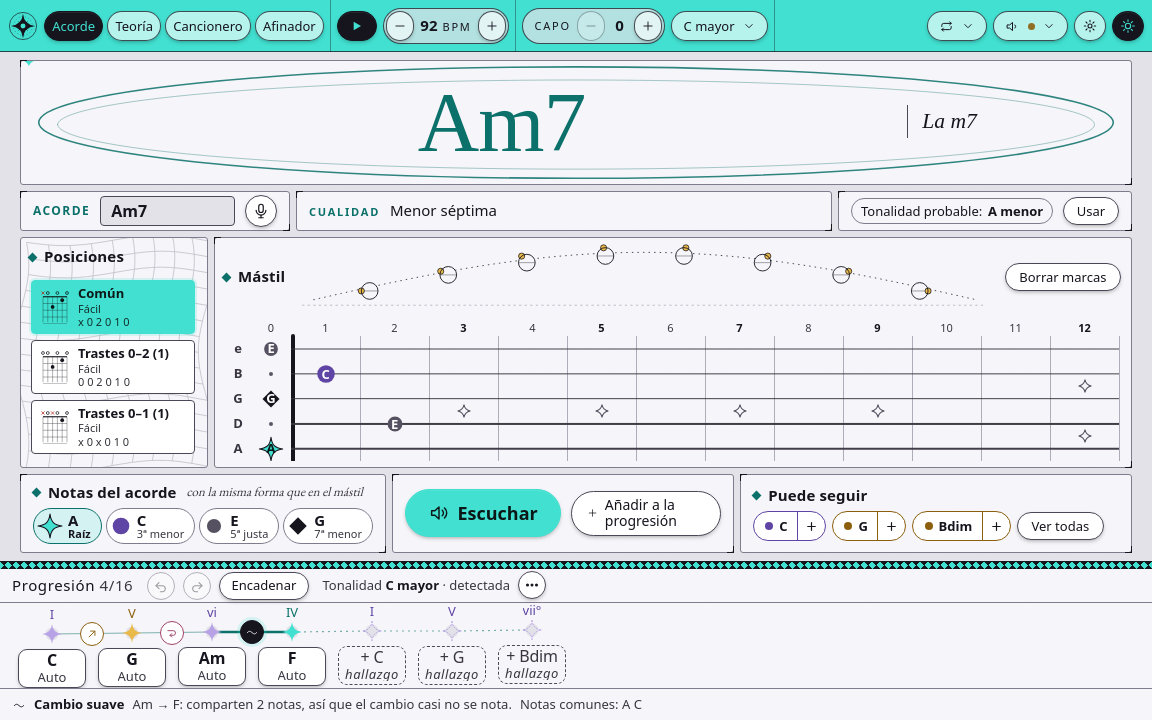
Test case: Acorde view › says when the marks make no known chord and clears them
The width and height of the screenshot is (1152, 720).
Click the button "Borrar marcas".
click(1063, 277)  # box [1005,263,1121,291]
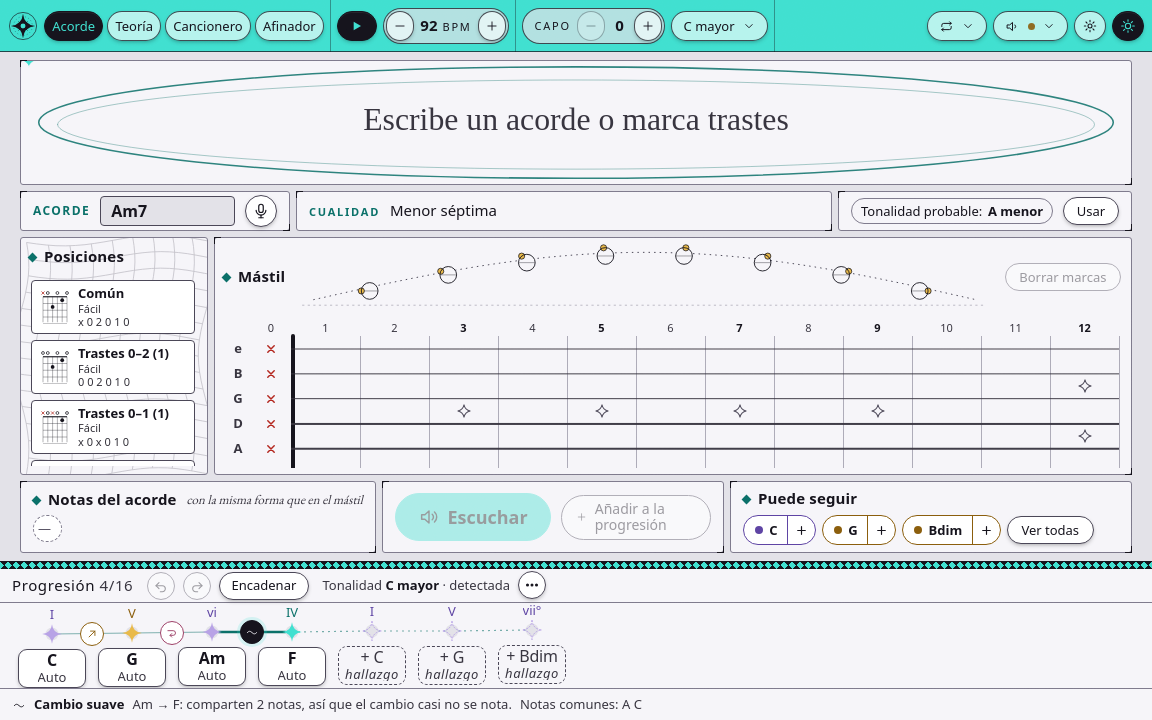
Click the button named "A traste 3".
click(464, 449)  # box [429,436,498,461]
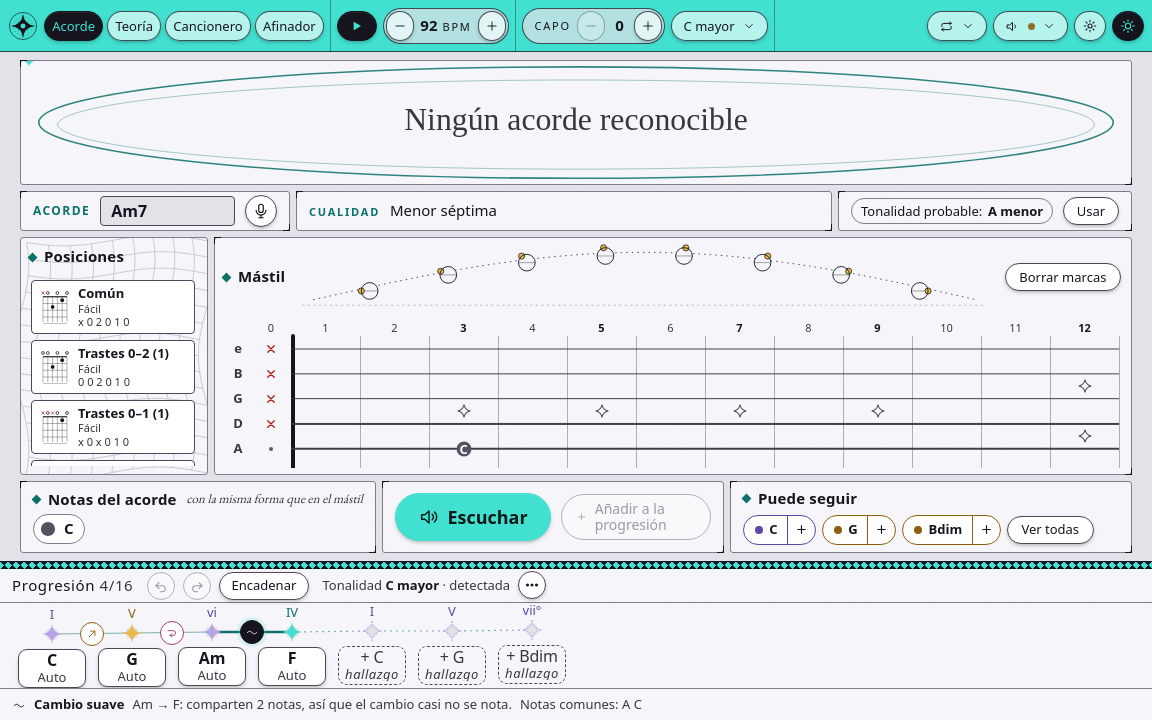
Now the button "Añadir a la progresión" is disabled, box [561,494,711,540]
Now the text "Ningún acorde reconocible" is shown, box [404,102,748,137]
Click the button "Borrar marcas".
click(1063, 277)  # box [1005,263,1121,291]
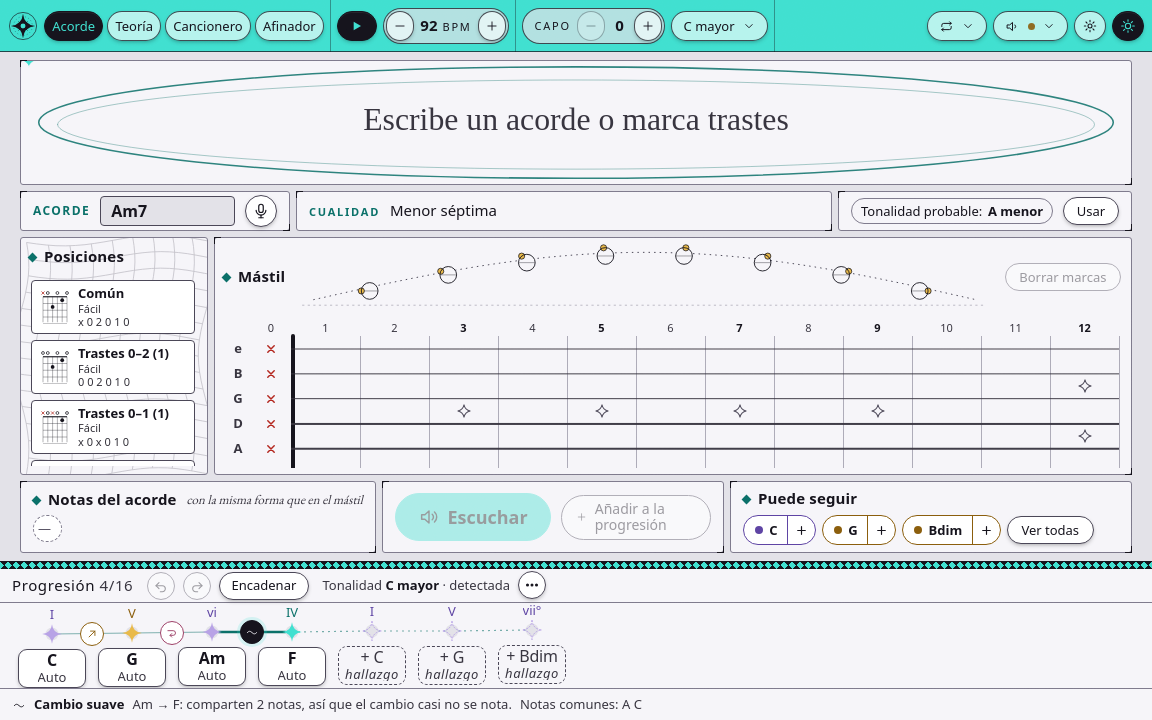
Now the text "Escribe un acorde o marca trastes" is shown, box [363,102,789,137]
